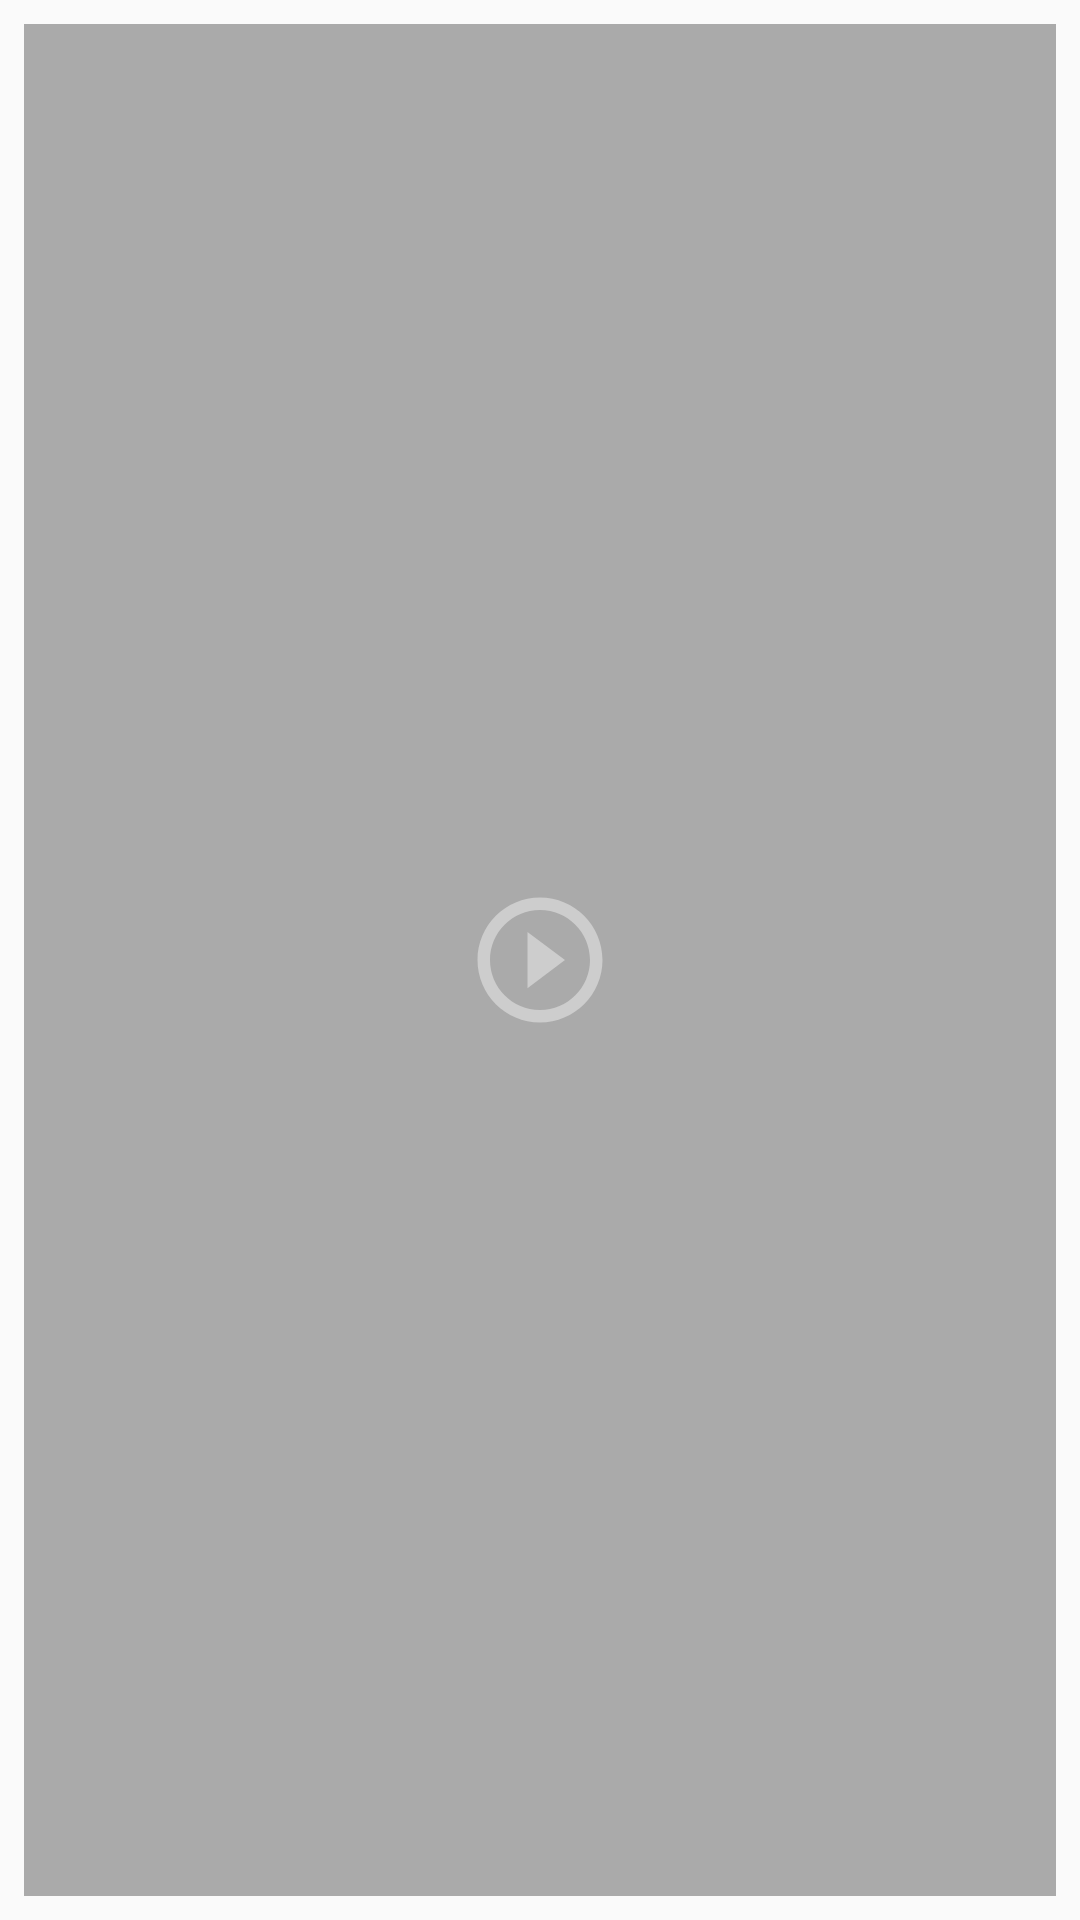

Named icons in this screenshot (1080x1920) and their bounding boxes, (x1, y1, x2, y2):
play circle: (478, 898, 602, 1022)
